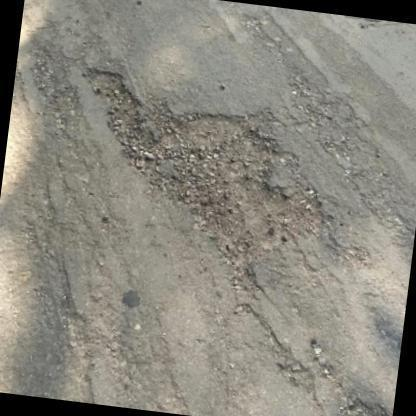pothole: (83, 68, 328, 252)
